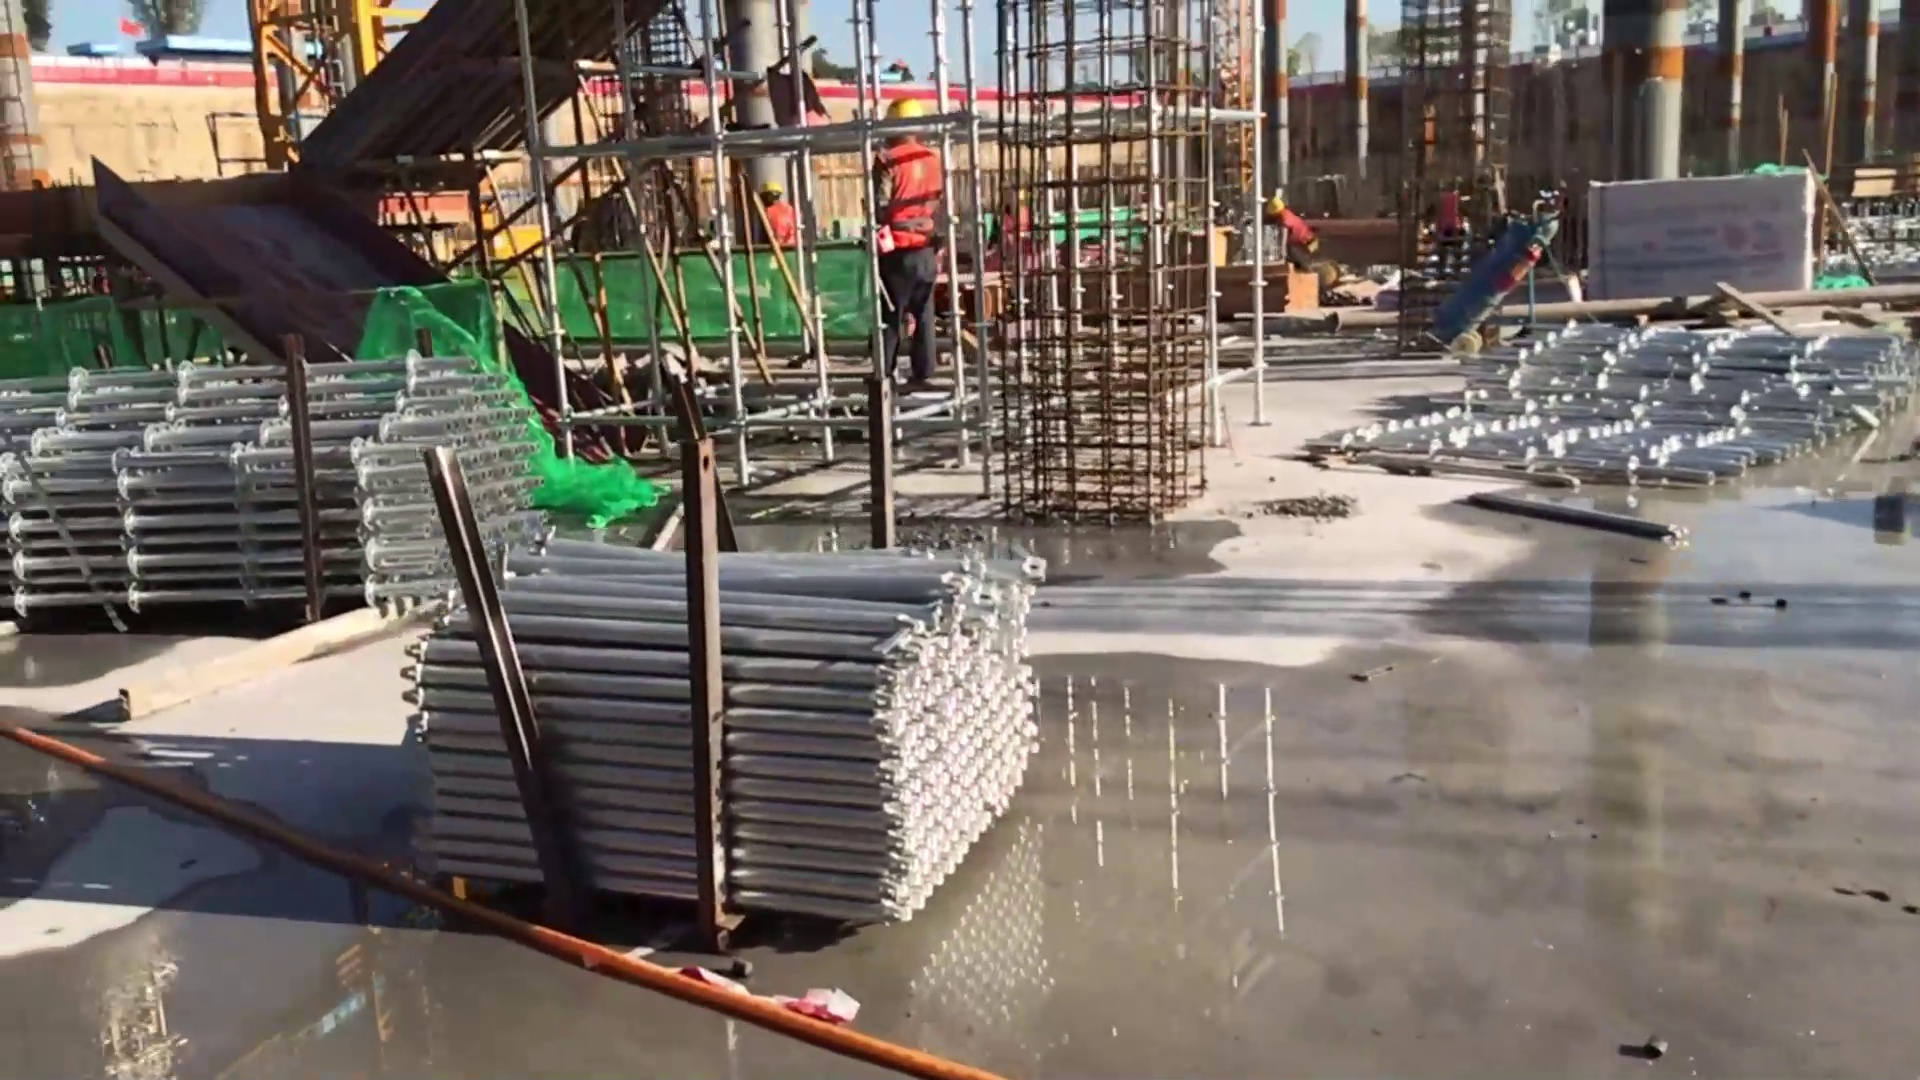person: (866, 95, 948, 400), (1269, 195, 1323, 281), (1429, 170, 1470, 274), (754, 174, 806, 245)
scaffold: (427, 549, 1044, 934), (11, 361, 554, 614), (1373, 331, 1915, 491)
vest: (877, 146, 942, 251)
